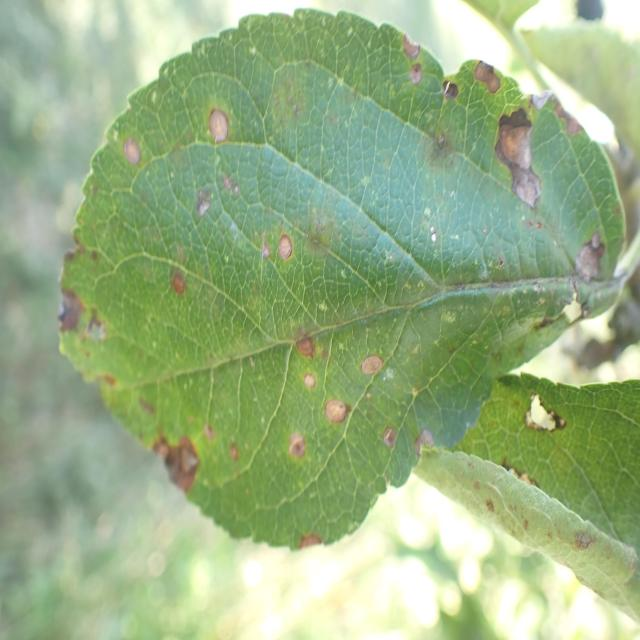frog-eye-leaf-spot: (58, 8, 626, 550)
